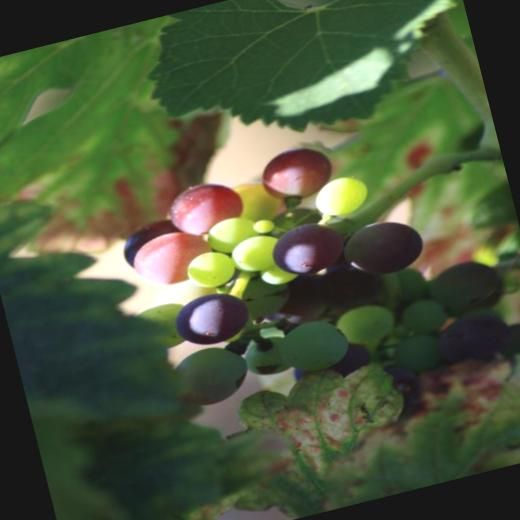Orange: (106, 104, 520, 439)
